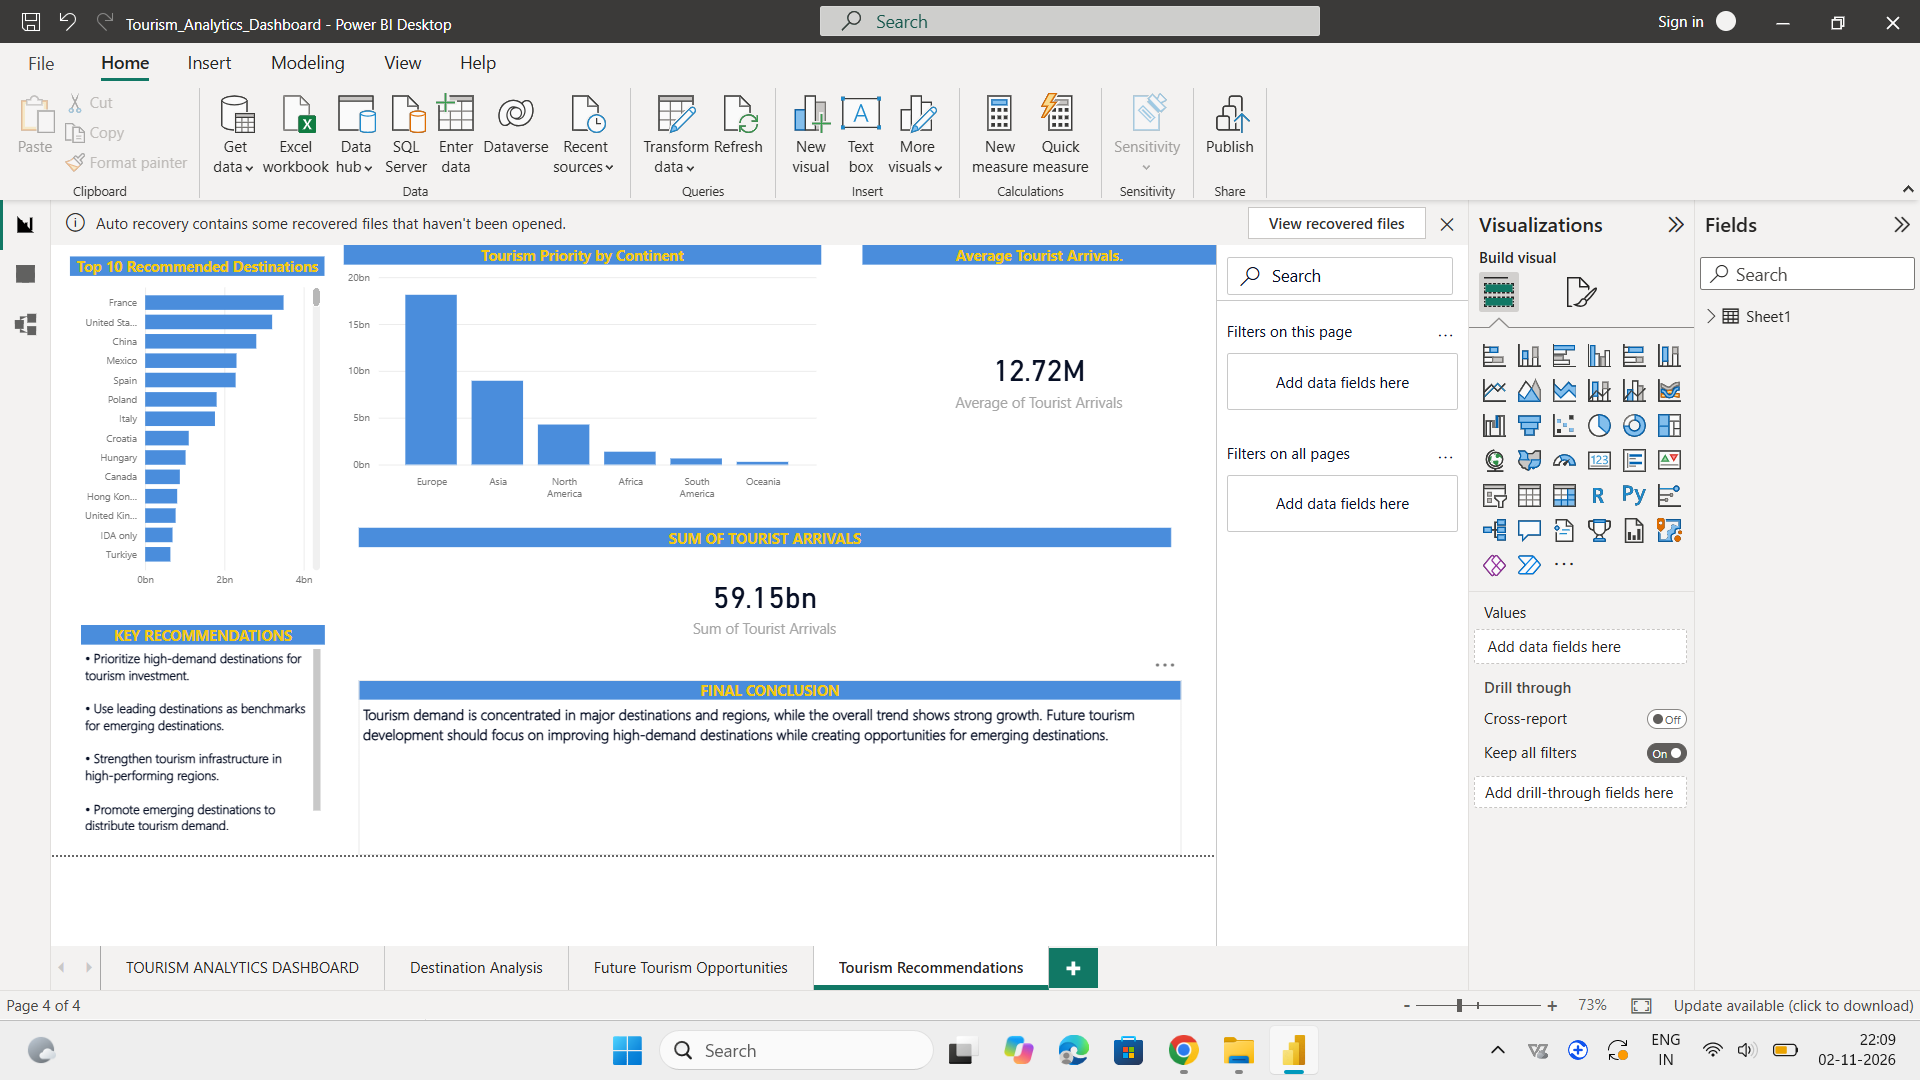

The page's visual inventory and layout, read from the dashboard file:
{"tool":"powerbi","page":{"name":"Tourism Recommendations","canvas":[1280,720],"ordinal":3},"visuals":[{"type":"card","title":"SUM OF TOURIST ARRIVALS","fields":{"Values":["Sum(Sheet1.Tourist Arrivals)"]},"box":[337.9,359.9,278.9,148.4],"z":0},{"type":"clusteredBarChart","title":"Top 10 Recommended Destinations","fields":{"Category":["Sheet1.Country Name"],"Y":["Sum(Sheet1.Tourist Arrivals)"]},"box":[20.6,79.7,280.2,258.3],"z":1000},{"type":"clusteredColumnChart","title":"Tourism Priority by Continent","fields":{"Category":["Sheet1.Continent"],"Y":["Sum(Sheet1.Tourist Arrivals)"]},"box":[375,79.7,278.9,258.3],"z":2000},{"type":"card","title":"Average Tourist Arrivals.","fields":{"Values":["Avg(Sheet1.Tourist Arrivals)"]},"box":[762.4,79.7,280.2,258.3],"z":3000},{"type":"textbox","title":"KEY RECOMMENDATIONS","box":[33,467.1,267.9,229.4],"z":4000},{"type":"textbox","box":[1117,0,163,280],"z":5000},{"type":"textbox","title":"FINAL CONCLUSION","box":[337.6,526.9,634,131.7],"z":6000},{"type":"textbox","box":[188,9.6,891.9,104.3],"z":7000}]}

Visuals, with their boxes on the page's 1280x720 design canvas (x1, y1, x2, y2). These are canvas units, not pixel positions in the 1920x1080 screenshot, which may show the page scaled, cropped or inside an application window:
"SUM OF TOURIST ARRIVALS" card: (left=338, top=360, right=617, bottom=508)
"Top 10 Recommended Destinations" clusteredBarChart: (left=21, top=80, right=301, bottom=338)
"Tourism Priority by Continent" clusteredColumnChart: (left=375, top=80, right=654, bottom=338)
"Average Tourist Arrivals." card: (left=762, top=80, right=1043, bottom=338)
"KEY RECOMMENDATIONS" textbox: (left=33, top=467, right=301, bottom=696)
textbox: (left=1117, top=0, right=1280, bottom=280)
"FINAL CONCLUSION" textbox: (left=338, top=527, right=972, bottom=659)
textbox: (left=188, top=10, right=1080, bottom=114)
